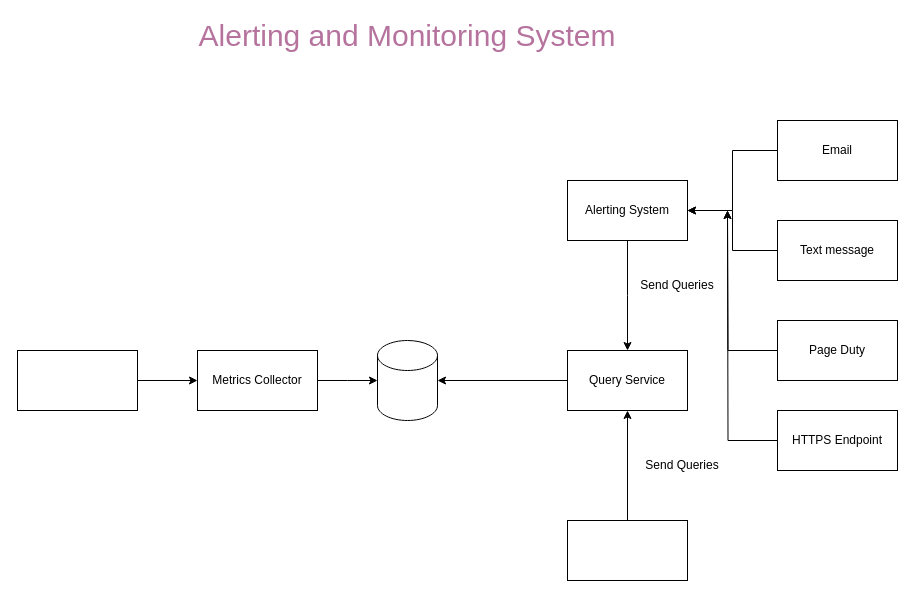
Some shapes in this 915 by 598 pixel diagram are drawn without their labels. The shapes that lost their labels are listed below. From the top down, each one's box as (x1, y1, x2, y2) in pixels, then its label:
(16, 350, 138, 410): Metrics source
(376, 340, 438, 420): Time series DB
(566, 520, 688, 580): Visualization System
